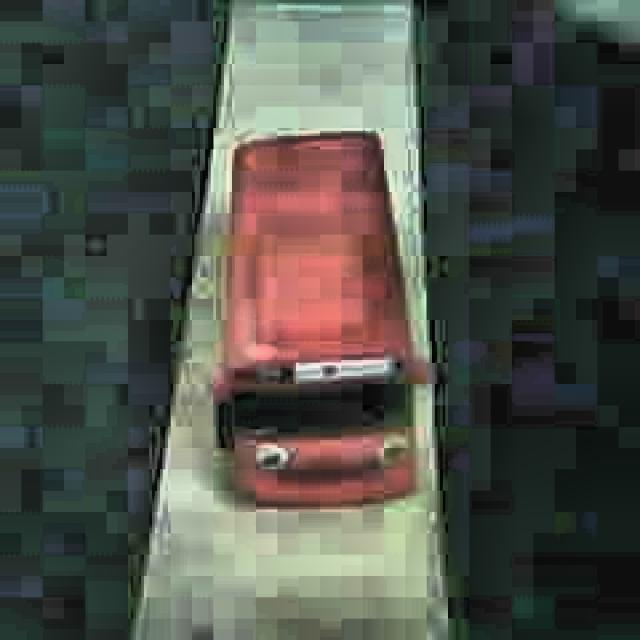bus: (212, 129, 434, 512)
